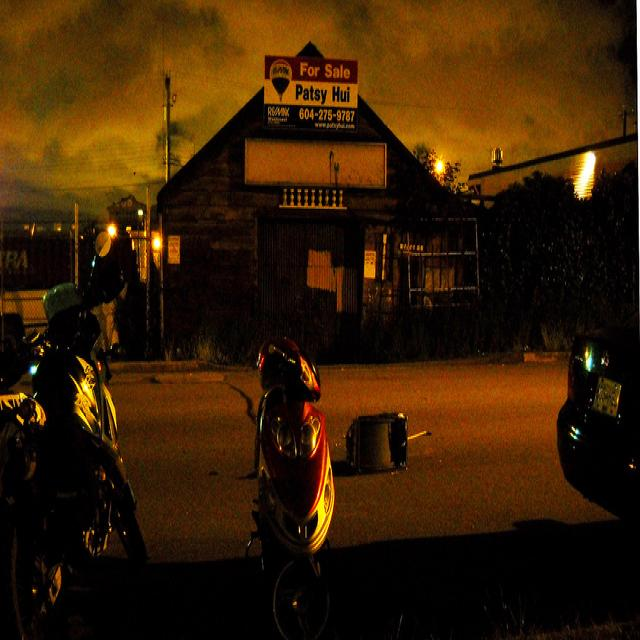Motorbike: (0, 260, 141, 638), (237, 309, 344, 635)
car: (542, 280, 640, 529)
